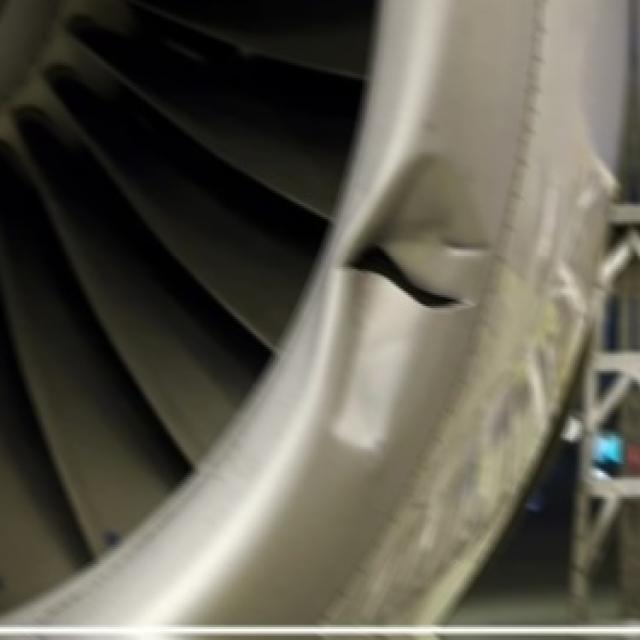crack: (334, 233, 474, 320)
